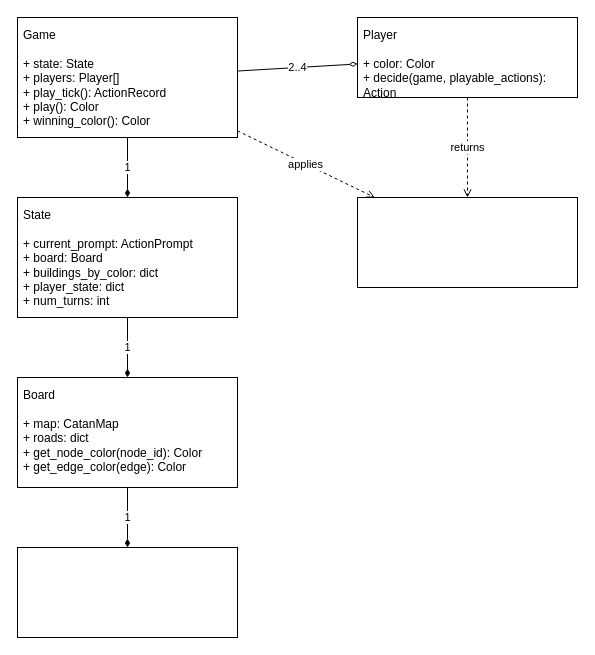
This 595x655 diagram has some shape labels left out. Here are the shapes that lost their labels. From the top down, the box of each, then its label:
(356, 196, 578, 288): Action + color: Color + action_type: ActionType + value
(16, 546, 238, 638): CatanMap + tiles: dict + adjacent_tiles: dict + port_nodes: dict
